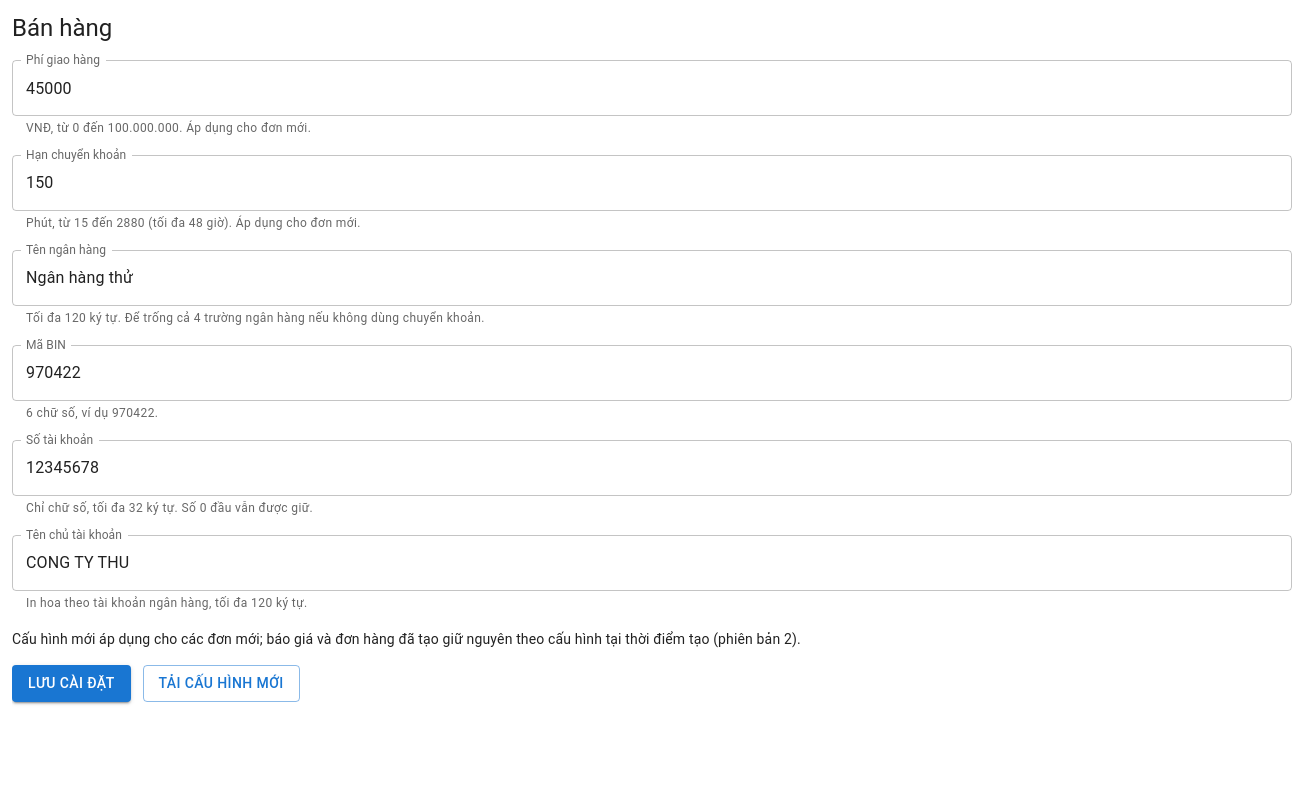
Test: settings form › blocks an invalid save (Phí giao hàng="") and keeps the field editable
Clear the field labelled "Phí giao hàng". click: x=652, y=88
box: [12,60,1292,116]
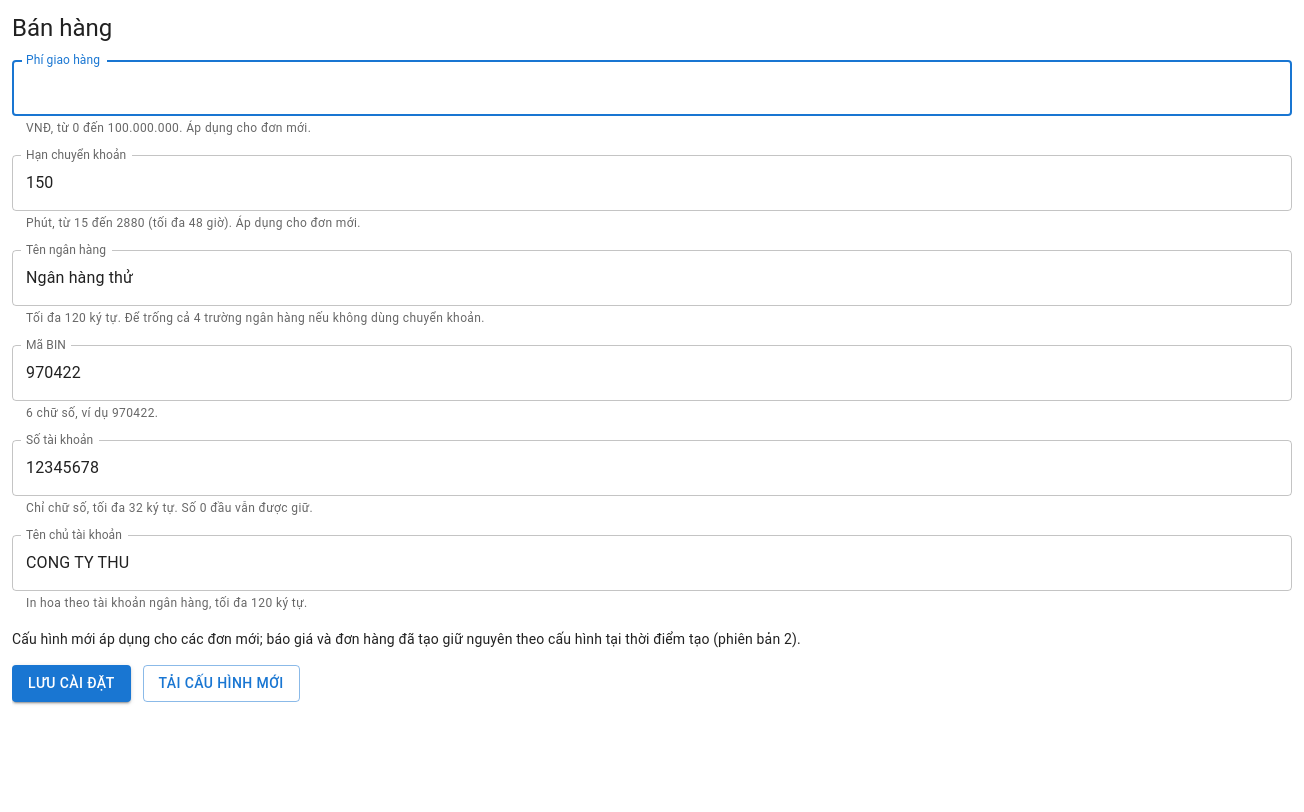
Click the button "Lưu cài đặt". click: x=71, y=684
box: [12,666,131,702]
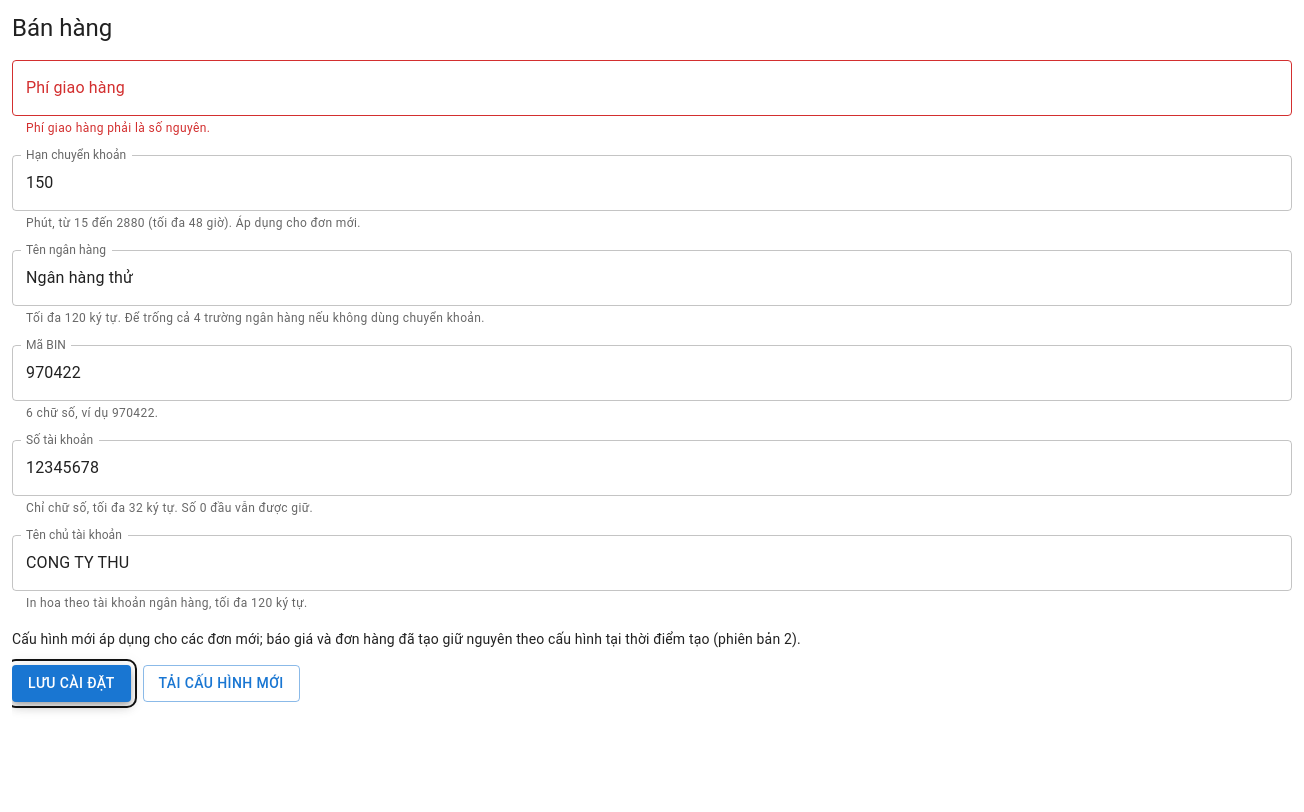
Expected: the field labelled "Phí giao hàng" is enabled, [12,60,1292,116]
Result: the text "Phí giao hàng phải là số nguyên." is shown at [26,121,210,135]
